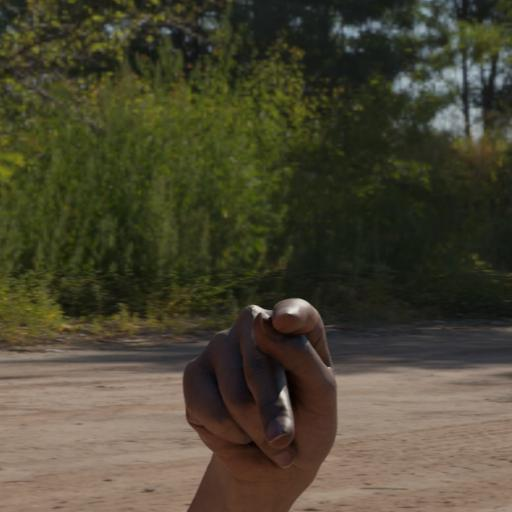P: (145, 292, 355, 512)
